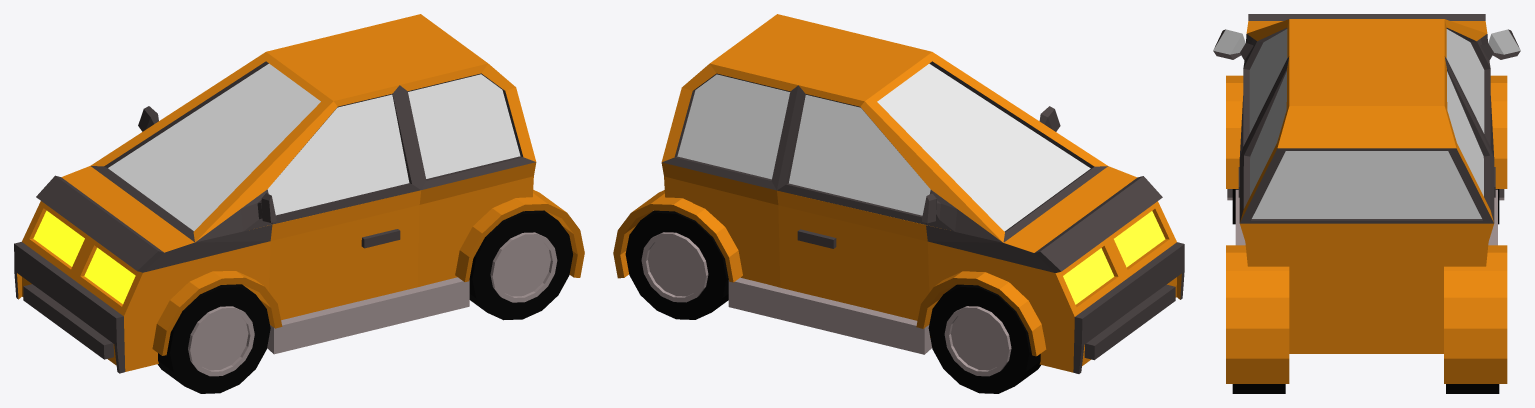
Rendered from Carro_Laranja_MMX.fbx.
3 views of the same model, side by side, from view 1: azimuth 30°, elevation 25°; view 2: azimuth 150°, elevation 25°; view 3: azimuth 270°, elevation 25° (orthographic). The views are drawn at different scales.
Visible parts, largest first — view 1: Cube, Cylinder, Cube.002, Cylinder.001; view 2: Cube, Cylinder.003, Cube.002, Cylinder.002; view 3: Cube, Cylinder.001, Cylinder.002, Cylinder, Cylinder.003, Cube.002.
Boxes of the visible parts, x1=… form: Cube: x1=14, y1=14, x2=536, y2=373; Cylinder: x1=157, y1=210, x2=572, y2=393; Cube.002: x1=267, y1=277, x2=469, y2=354; Cylinder.001: x1=152, y1=190, x2=584, y2=355; Cube: x1=661, y1=14, x2=1184, y2=373; Cylinder.003: x1=625, y1=210, x2=1040, y2=393; Cube.002: x1=728, y1=277, x2=932, y2=354; Cylinder.002: x1=613, y1=190, x2=1046, y2=356; Cube: x1=1213, y1=14, x2=1520, y2=353; Cylinder.001: x1=1226, y1=75, x2=1289, y2=383; Cylinder.002: x1=1444, y1=75, x2=1507, y2=383; Cylinder: x1=1227, y1=189, x2=1285, y2=393; Cylinder.003: x1=1446, y1=189, x2=1504, y2=393; Cube.002: x1=1235, y1=189, x2=1497, y2=245.
Size of the model in its own units: 622 by 311 by 314.
